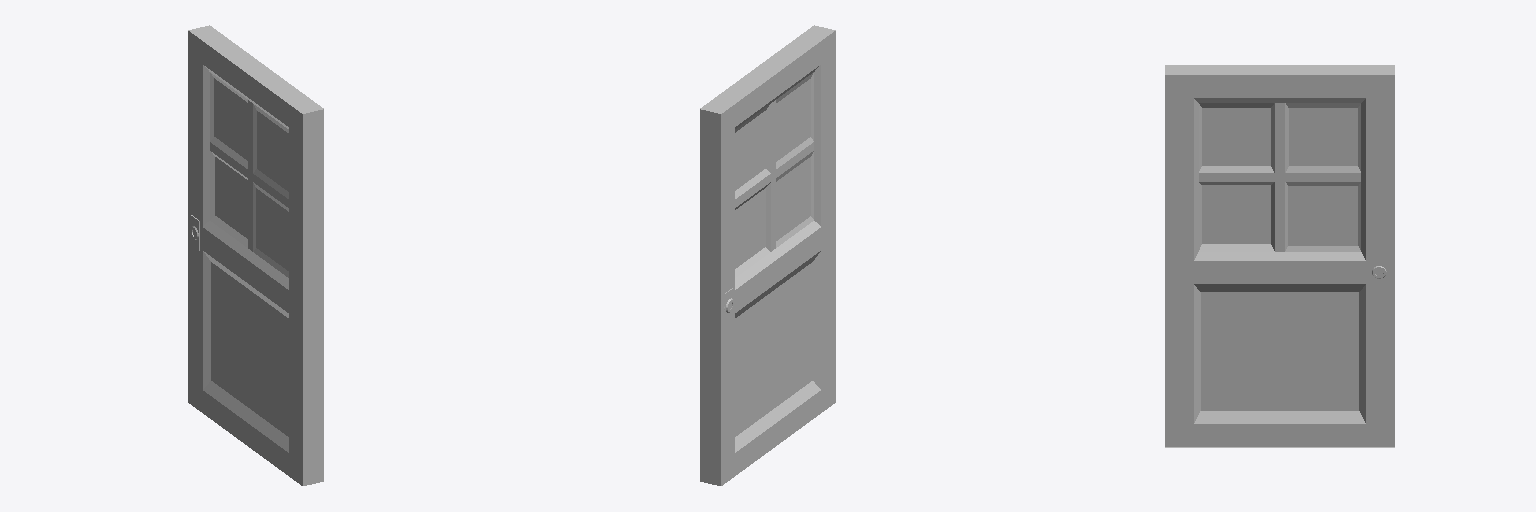
File: door.obj
The picture shows the model from 3 angles: view 1: azimuth 30°, elevation 25°; view 2: azimuth 150°, elevation 25°; view 3: azimuth 270°, elevation 25°; orthographic projection.
Visible parts, largest first — view 1: Door_Front_Cube.001; view 2: Door_Front_Cube.001; view 3: Door_Back_Cube.003, Door_Front_Cube.001.
Boxes of the visible parts, <box> form: Door_Front_Cube.001: <box>188,25,323,485</box>; Door_Front_Cube.001: <box>700,25,835,485</box>; Door_Back_Cube.003: <box>1165,75,1394,446</box>; Door_Front_Cube.001: <box>1165,65,1394,447</box>.
Size of the model in its own units: 0.5784 by 8.25 by 4.6.